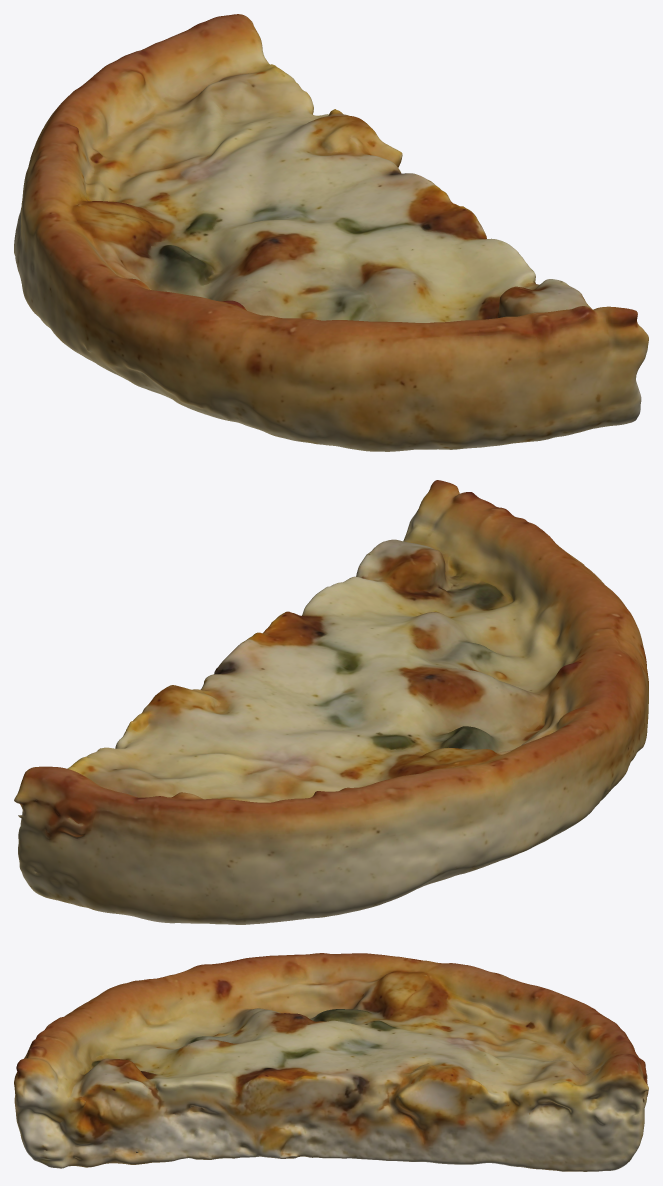
Rendered from pizza.glb.
The picture shows the model from 3 angles, top to bottom: view 1: azimuth 30°, elevation 25°; view 2: azimuth 150°, elevation 25°; view 3: azimuth 270°, elevation 25°; orthographic projection. The views are drawn at different scales.
Visible parts, largest first — view 1: Retopo_3DModel; view 2: Retopo_3DModel; view 3: Retopo_3DModel.
Boxes of the visible parts, left/top/right/bottom form: Retopo_3DModel: left=14, top=14, right=648, bottom=451; Retopo_3DModel: left=14, top=480, right=648, bottom=924; Retopo_3DModel: left=14, top=953, right=648, bottom=1171.
Size of the model in its own units: 0.117 by 0.0423 by 0.222.
1 material, 1 textured.
